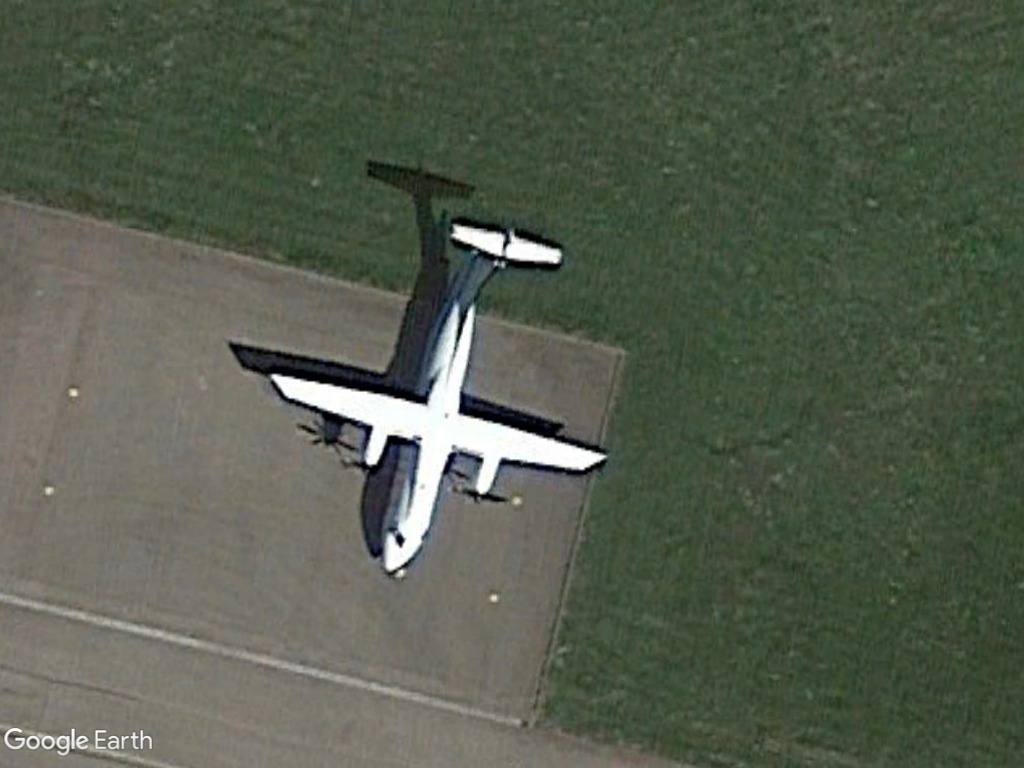propeller: (267, 197, 615, 592)
